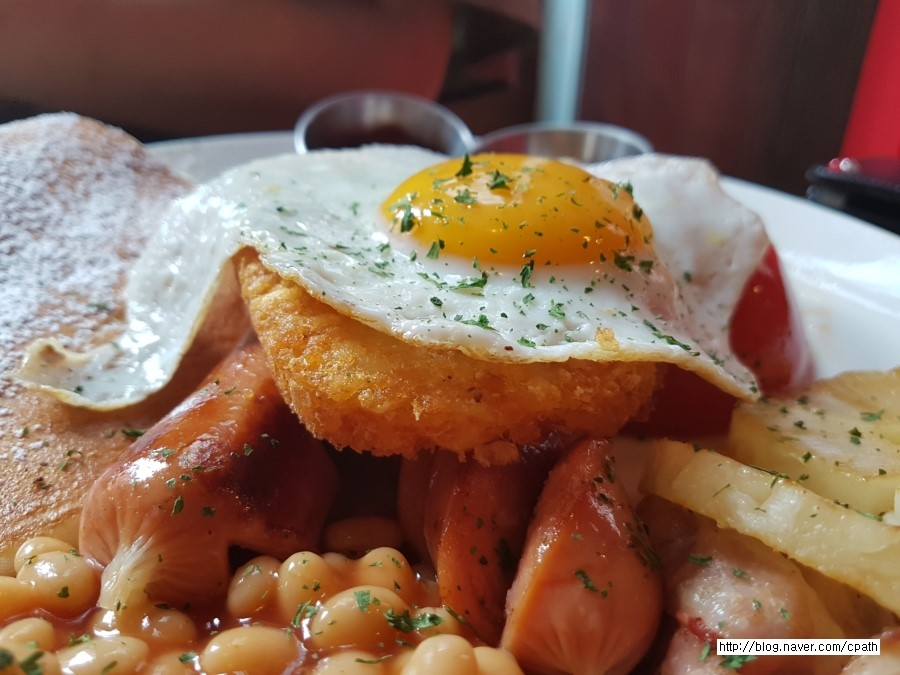boiled peas: (261, 539, 436, 675)
fried egg: (257, 146, 718, 337)
